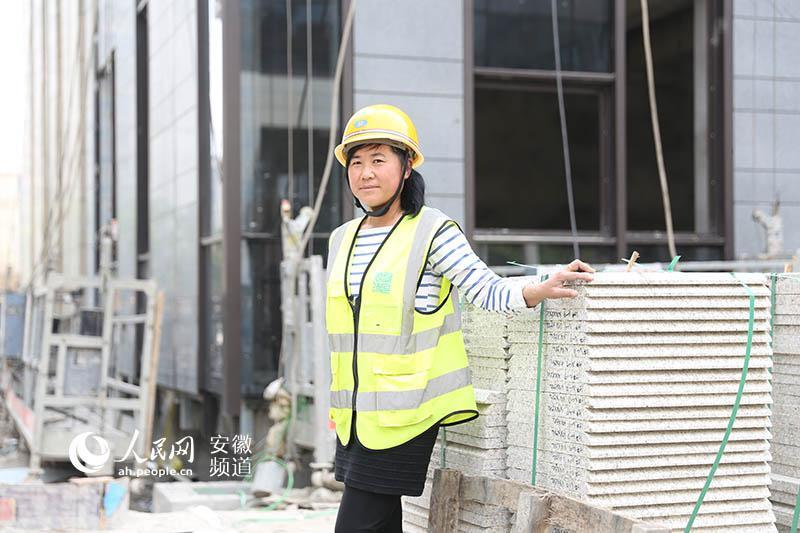helmet: (326, 101, 426, 165)
person: (315, 97, 481, 533)
vest: (318, 200, 472, 434)
